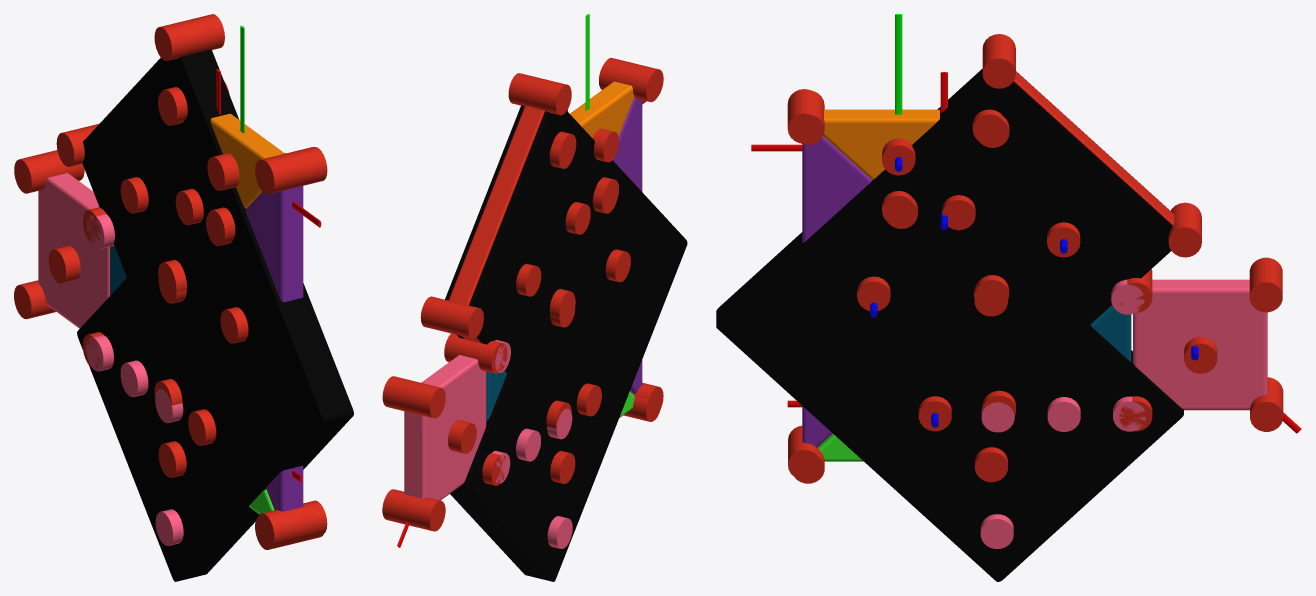
File: Template House.fbx
The picture shows the model from 3 angles, left to right: view 1: azimuth 30°, elevation 25°; view 2: azimuth 150°, elevation 25°; view 3: azimuth 270°, elevation 25°; orthographic projection. The views are drawn at different scales.
Visible parts, largest first — view 1: Heart, Template_007, Template_005, Template_003, ProximitySensor_3_5, ProximitySensor_2_4, ProximitySensor_3_4, ProximitySensor_1_6, ProximitySensor_2_6, ProximitySensor_1_5, ProximitySensor_0_6, ProximitySensor_0_2 (+20 smaller); view 2: Heart, Template_007, Template_006, Template_003, Template_005, ProximitySensor_1_6, ProximitySensor_1_5, ProximitySensor_3_5, ProximitySensor_2_6, ProximitySensor_4_1, ProximitySensor_2_2, ProximitySensor_0_6 (+19 smaller); view 3: Heart, Template_007, Template_005, Template_003, Template_006, ProximitySensor_1_6, ProximitySensor_3_5, ProximitySensor_1_5, ProximitySensor_2_6, Template_004, ProximitySensor_2_4, ProximitySensor_2_2 (+16 smaller).
Part boxes in pixels (x1,y1,x2,y2): Heart: (77,49,353,581); Template_007: (38,173,109,328); Template_005: (246,186,303,511); Template_003: (210,113,284,208); ProximitySensor_3_5: (154,14,224,60); ProximitySensor_2_4: (257,500,327,547); ProximitySensor_3_4: (257,147,327,193); ProximitySensor_1_6: (14,150,84,193); ProximitySensor_2_6: (14,280,56,319); ProximitySensor_1_5: (56,123,99,166); ProximitySensor_0_6: (48,245,80,283); ProximitySensor_0_2: (207,153,239,190); Heart: (445,105,687,581); Template_007: (404,355,486,500); Template_006: (448,106,544,369); Template_003: (570,81,634,137); Template_005: (613,97,642,393); ProximitySensor_1_6: (382,376,445,418); ProximitySensor_1_5: (420,296,483,338); ProximitySensor_3_5: (508,73,571,115); ProximitySensor_2_6: (382,489,445,531); ProximitySensor_4_1: (444,333,507,373); ProximitySensor_2_2: (599,63,661,102); ProximitySensor_0_6: (448,420,476,453); Heart: (716,69,1183,581); Template_007: (1133,279,1267,410); Template_005: (802,136,871,447); Template_003: (823,109,939,180); Template_006: (1014,71,1174,224); ProximitySensor_1_6: (1249,257,1282,312); ProximitySensor_3_5: (982,34,1015,88); ProximitySensor_1_5: (1168,202,1201,257); ProximitySensor_2_6: (1250,377,1283,431); Template_004: (1090,305,1131,361); ProximitySensor_2_4: (788,425,821,479); ProximitySensor_2_2: (791,90,824,144).
Bounding box in the file's own units: 180 × 1438 × 1362.
